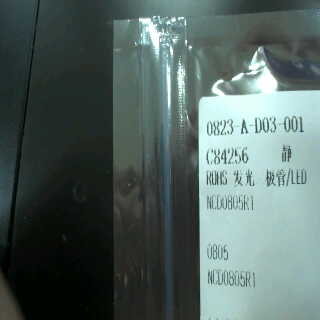LED: (230, 165, 313, 189)
